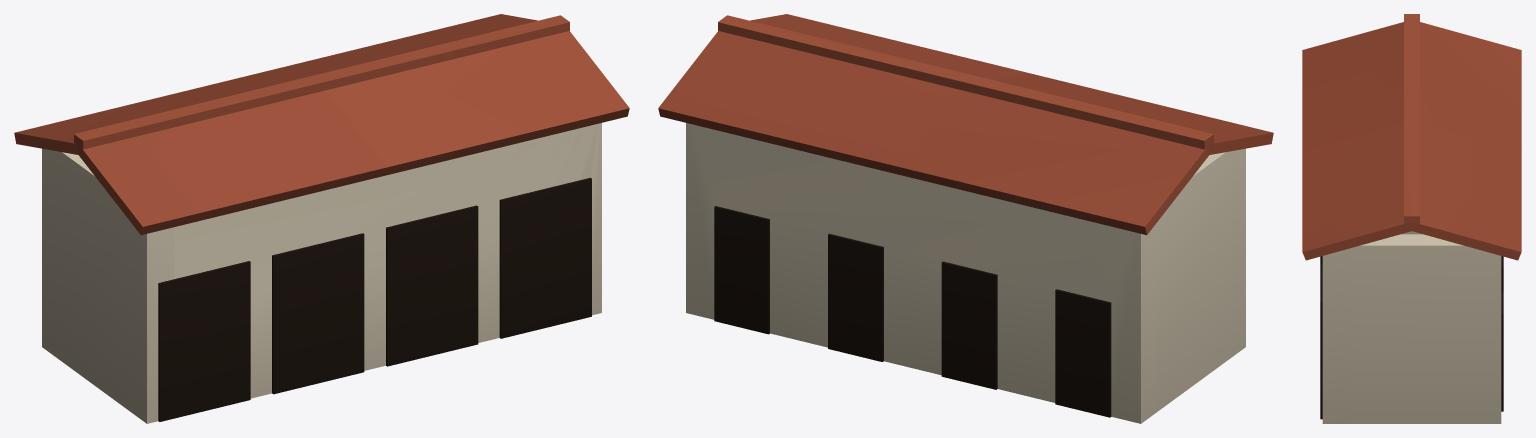
Rendered from colonial_portal_lod1.glb.
3 views of the same model, side by side, from view 1: azimuth 30°, elevation 25°; view 2: azimuth 150°, elevation 25°; view 3: azimuth 270°, elevation 25° (orthographic). The views are drawn at different scales.
Parts seen in each view (by area): view 1: GEO-Arch_colonial_portal_LOD1; view 2: GEO-Arch_colonial_portal_LOD1; view 3: GEO-Arch_colonial_portal_LOD1.
Part boxes in pixels (x1,y1,x2,y2): GEO-Arch_colonial_portal_LOD1: (14,14,629,423); GEO-Arch_colonial_portal_LOD1: (658,14,1273,423); GEO-Arch_colonial_portal_LOD1: (1302,14,1521,423).
Size of the model in its own units: 10.7 by 5.29 by 4.9.
